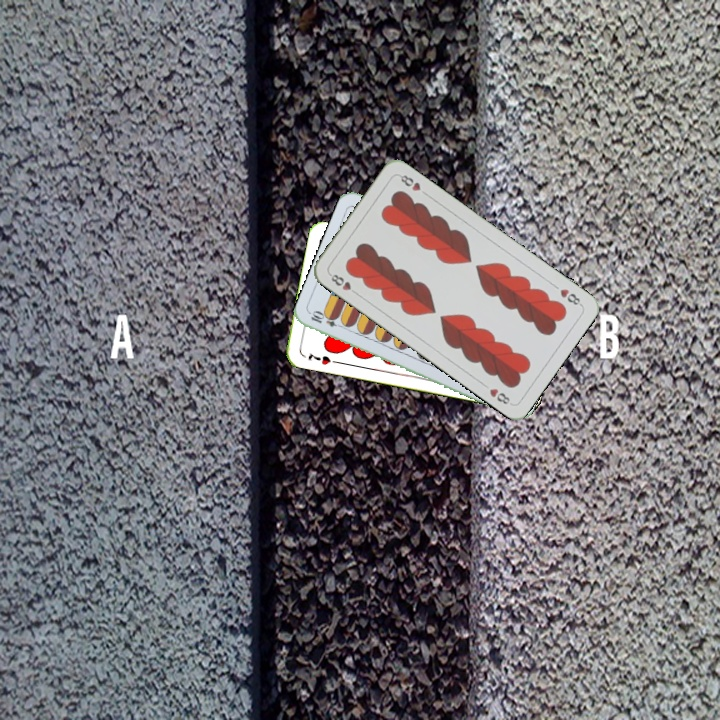E10: (307, 308, 347, 331)
H7: (304, 349, 333, 367)
H8: (325, 269, 361, 298), (556, 284, 585, 309)
